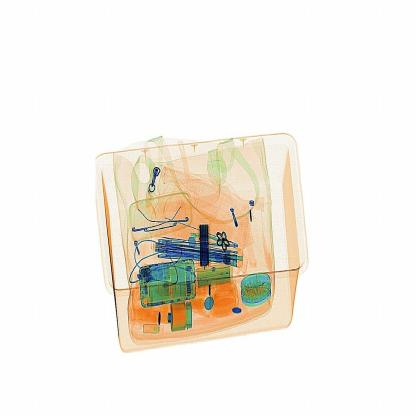scissors: (192, 208, 219, 270)
